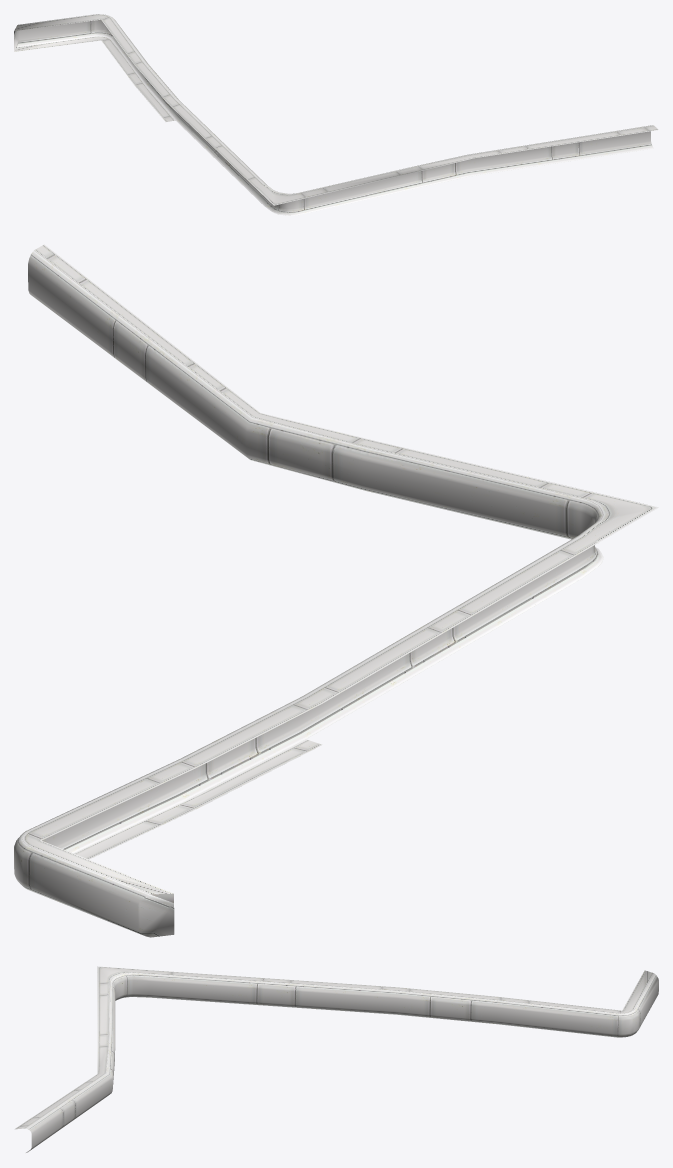
Rendered from STA20_StorecurveA01.FBX.
3 views of the same model, one above another, from view 1: azimuth 30°, elevation 25°; view 2: azimuth 150°, elevation 25°; view 3: azimuth 270°, elevation 25° (orthographic). The views are drawn at different scales.
Parts seen in each view (by area): view 1: STA20_StorecurveA01; view 2: STA20_StorecurveA01; view 3: STA20_StorecurveA01.
Boxes of the visible parts, x1,y1,x2,y2 form: STA20_StorecurveA01: [14, 14, 658, 215]; STA20_StorecurveA01: [14, 244, 658, 937]; STA20_StorecurveA01: [14, 966, 658, 1152].
Bounding box in the file's own units: 18.75 × 2.45 × 27.11.
